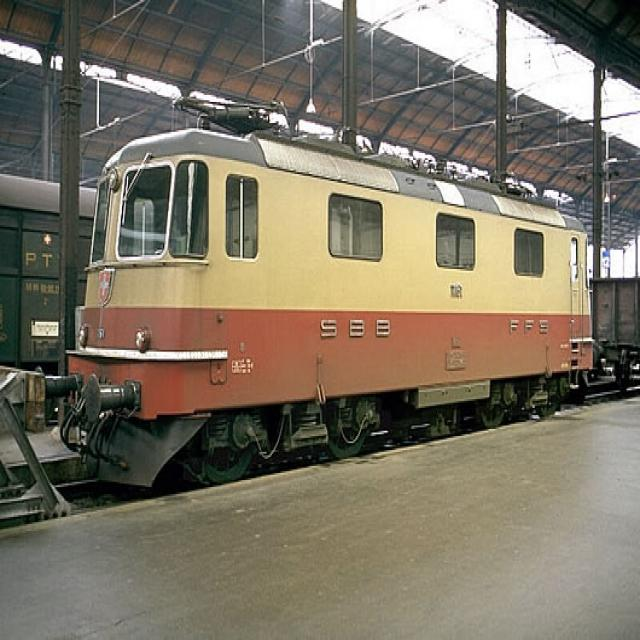2001: (116, 162, 169, 255), (168, 158, 206, 255), (327, 190, 382, 255), (223, 171, 256, 257), (435, 211, 473, 267), (512, 225, 543, 273)
platform: (0, 390, 638, 636), (0, 415, 94, 483)
sky light: (587, 236, 639, 278)
tracks: (0, 357, 639, 527)
train: (0, 173, 93, 418)
train crop: (64, 120, 638, 484)
